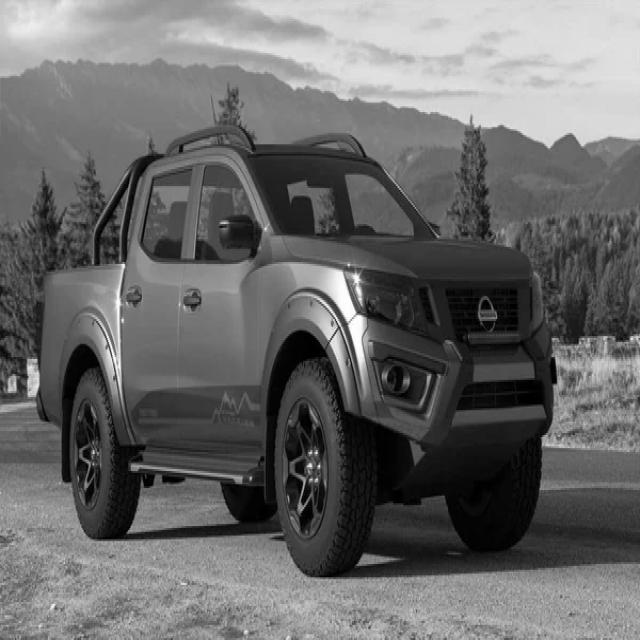Car: (37, 125, 556, 576)
